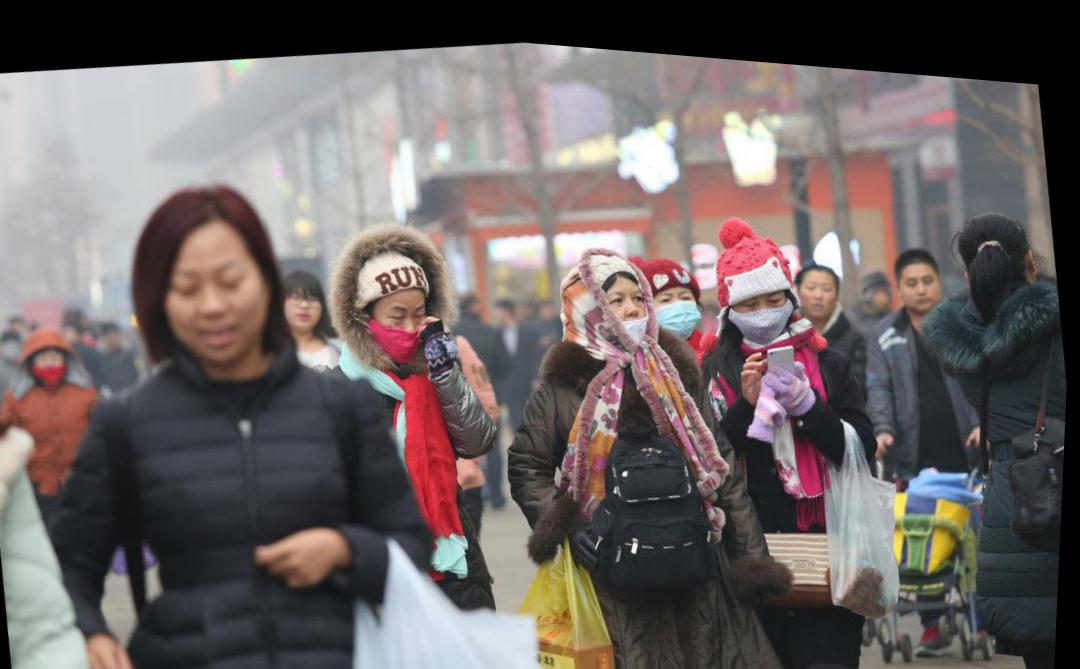NONE: (167, 250, 272, 364), (901, 253, 946, 300), (798, 261, 843, 306), (287, 285, 326, 326)
OK: (732, 267, 795, 332), (649, 268, 711, 332)
WRONG: (361, 280, 439, 358), (593, 271, 663, 343), (39, 348, 75, 387)
